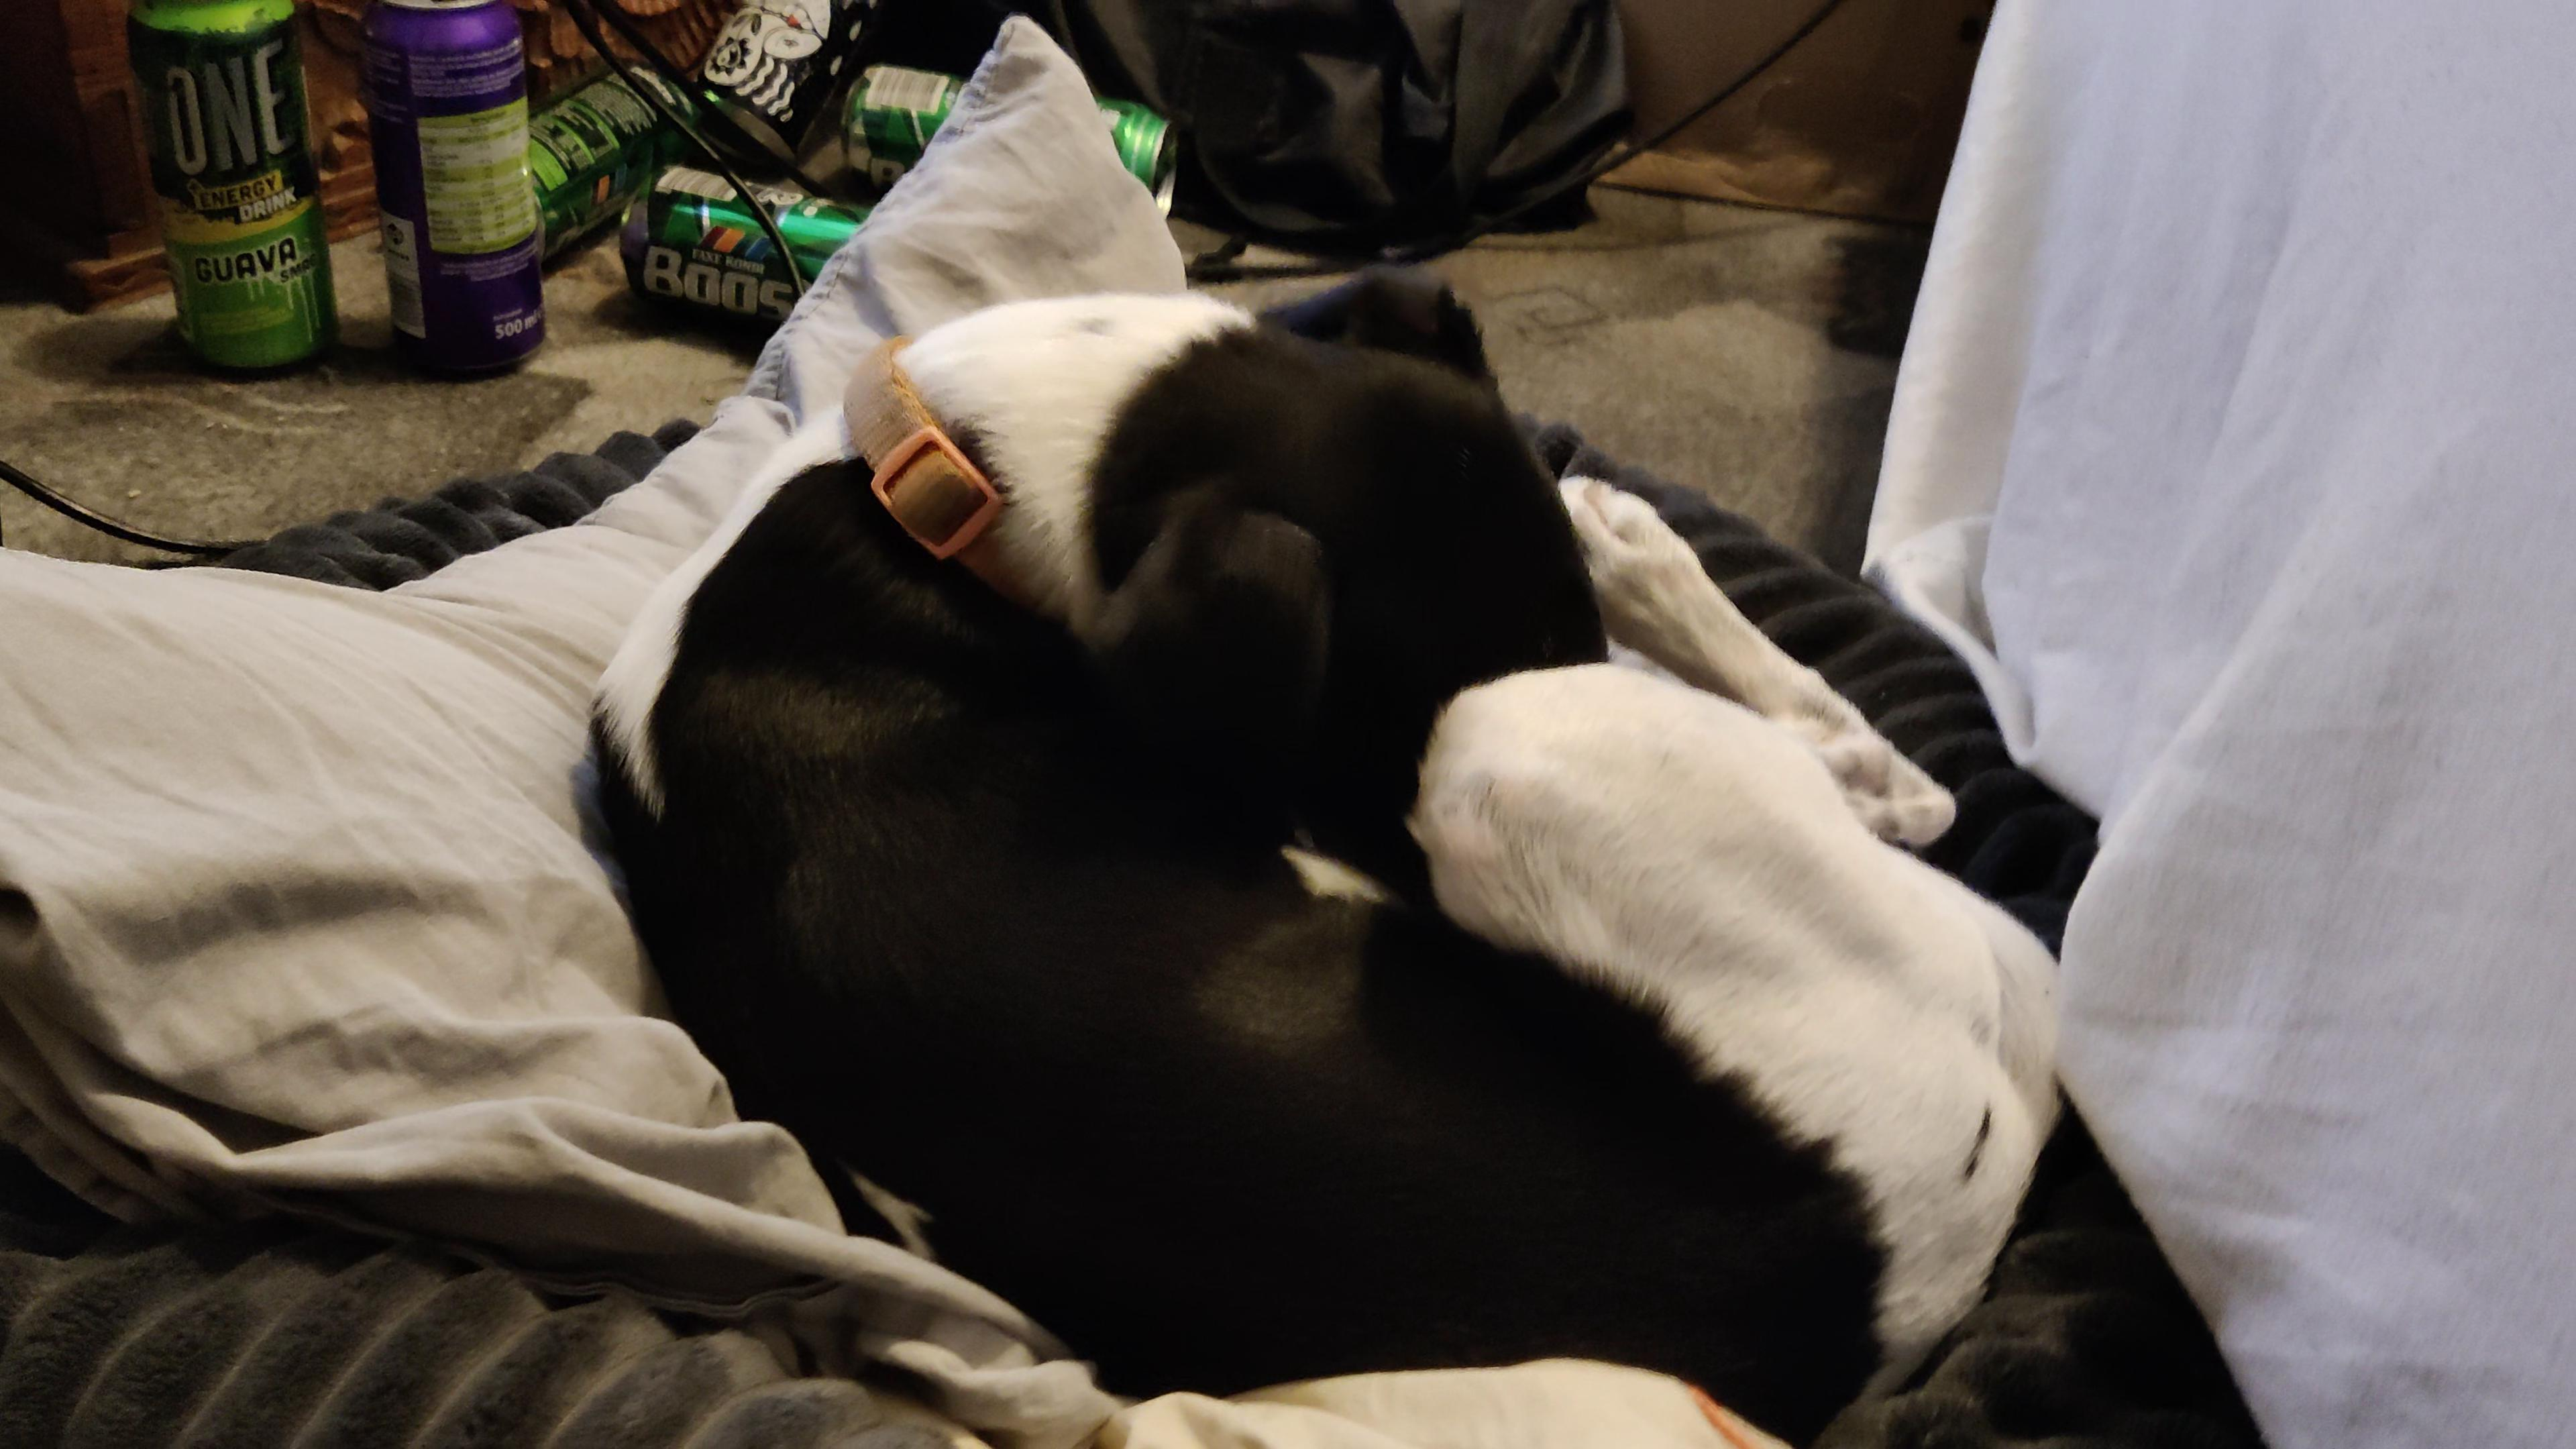Dog: (568, 211, 2077, 1438)
